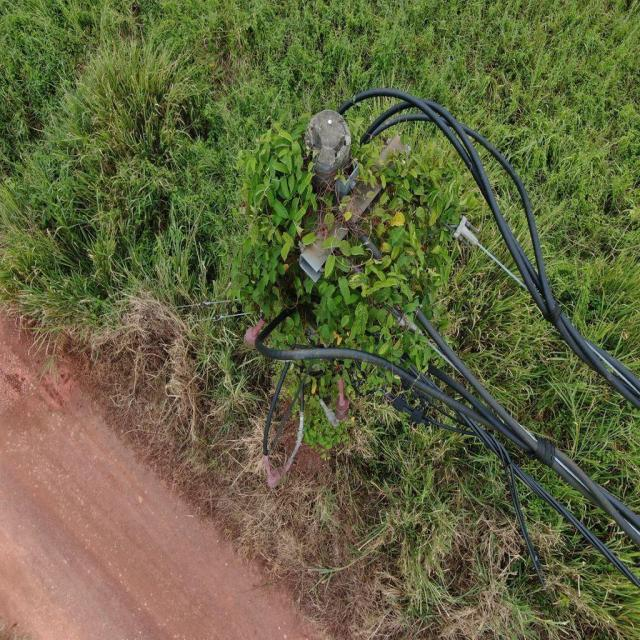critical vegetation: (218, 91, 464, 452)
